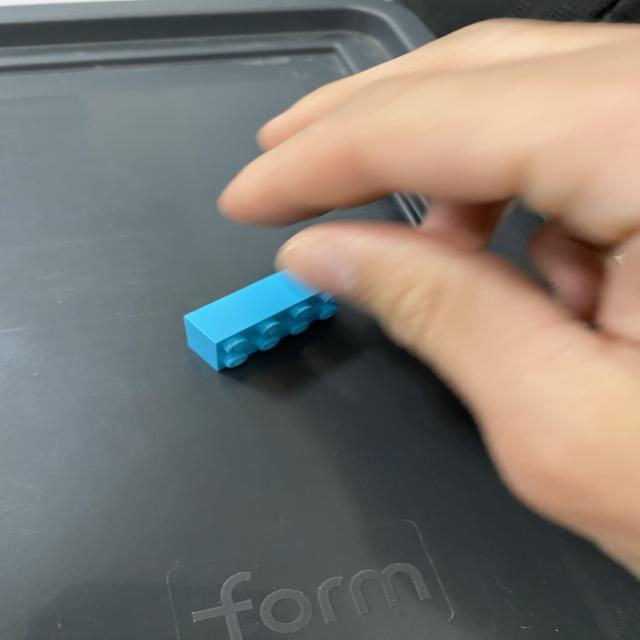C4x2x1: (183, 269, 351, 376), (182, 267, 339, 345)
